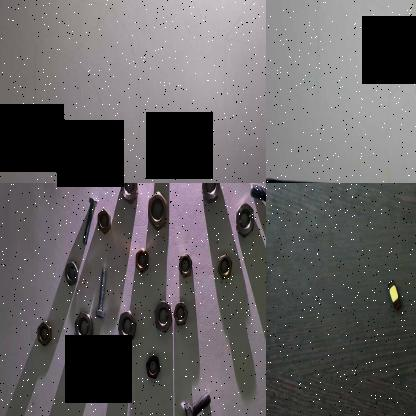Bolts: (80, 193, 100, 257), (95, 266, 110, 324), (183, 387, 213, 416), (249, 183, 266, 218)
NUTS: (147, 190, 169, 232), (233, 200, 256, 238), (386, 270, 404, 314), (74, 310, 94, 348), (117, 307, 135, 347), (153, 300, 173, 334), (145, 352, 163, 384), (134, 247, 152, 275), (98, 205, 112, 237), (35, 318, 51, 346), (201, 183, 221, 205), (176, 253, 192, 280), (218, 252, 232, 282), (174, 300, 188, 330), (119, 183, 138, 204), (64, 260, 78, 286)
